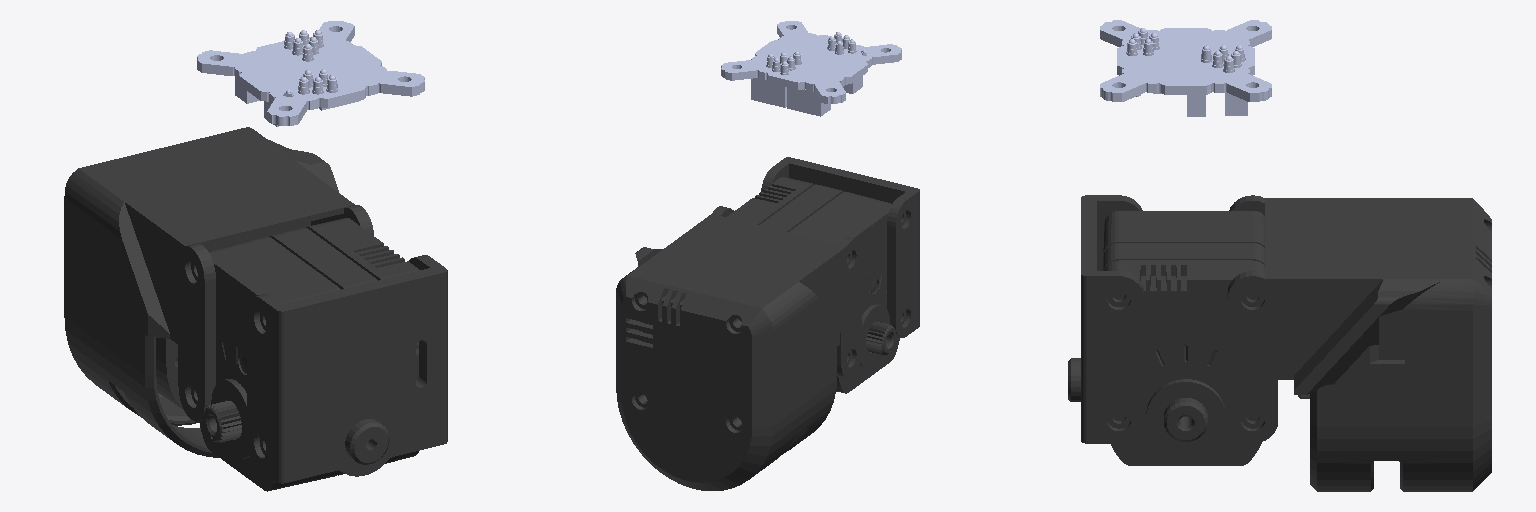
The robot description file, URDF, robot "screw_cross_module_cover_invert_50mm":
<?xml version='1.0' encoding='UTF-8'?>
<robot name="screw_cross_module_cover_invert_50mm">
  <link name="base_link">
    <inertial>
      <origin xyz="-0.000213433946328543 -0.000522257566248314 0.010512356078851" rpy="0.0 -0.0 0.0"/>
      <mass value="0.0119791718336502"/>
      <inertia ixx="1.31621870893497e-06" ixy="-5.13940617703683e-09" ixz="6.92655022774858e-09" iyy="1.42670892278346e-06" iyz="5.85355266632325e-09" izz="1.57468742862286e-06"/>
    </inertial>
    <visual>
      <geometry>
        <mesh filename="package://screw_cross_module_cover_invert_50mm/meshes/base_link.dae"/>
      </geometry>
      <material name="__unnamed_material_1"/>
      <origin xyz="0.0 0.0 0.0" rpy="0.0 -0.0 0.0"/>
    </visual>
    <collision>
      <geometry>
        <mesh filename="package://screw_cross_module_cover_invert_50mm/meshes/base_link.dae"/>
      </geometry>
      <origin xyz="0.0 0.0 0.0" rpy="0.0 -0.0 0.0"/>
    </collision>
  </link>
  <link name="link1">
    <inertial>
      <origin xyz="2.40548098907604e-05 0.0170200166175038 0.00743211422338727" rpy="0.0 -0.0 0.0"/>
      <mass value="0.0528420021206123"/>
      <inertia ixx="8.46927525862569e-06" ixy="3.77104103813554e-08" ixz="-2.40264131836263e-09" iyy="9.18514204610879e-06" iyz="3.33117292501083e-07" izz="7.42897064027825e-06"/>
    </inertial>
    <visual>
      <geometry>
        <mesh filename="package://screw_cross_module_cover_invert_50mm/meshes/link1.dae"/>
      </geometry>
      <material name="__unnamed_material_2"/>
      <origin xyz="0.0 0.0 0.0" rpy="0.0 -0.0 0.0"/>
    </visual>
    <collision>
      <geometry>
        <mesh filename="package://screw_cross_module_cover_invert_50mm/meshes/link1.dae"/>
      </geometry>
      <origin xyz="0.0 0.0 0.0" rpy="0.0 -0.0 0.0"/>
    </collision>
  </link>
  <link name="link2">
    <inertial>
      <origin xyz="-0.000799904651096249 0.000126545018078978 0.0439031855091127" rpy="0.0 -0.0 0.0"/>
      <mass value="0.0184890044461961"/>
      <inertia ixx="3.86018266499349e-06" ixy="-2.57346007074634e-09" ixz="-1.33830705751634e-08" iyy="3.71216828080987e-06" iyz="1.02631852497554e-09" izz="3.85438258007771e-06"/>
    </inertial>
    <visual>
      <geometry>
        <mesh filename="package://screw_cross_module_cover_invert_50mm/meshes/link2.dae"/>
      </geometry>
      <material name="__unnamed_material_3"/>
      <origin xyz="0.0 0.0 0.0" rpy="0.0 -0.0 0.0"/>
    </visual>
    <collision>
      <geometry>
        <mesh filename="package://screw_cross_module_cover_invert_50mm/meshes/link2.dae"/>
      </geometry>
      <origin xyz="0.0 0.0 0.0" rpy="0.0 -0.0 0.0"/>
    </collision>
  </link>
  <link name="dummy_link">
    <inertial>
      <origin xyz="-0.00146131369472048 0.000201870283507455 -0.00283550060362608" rpy="0.0 -0.0 0.0"/>
      <mass value="0.00131295075943631"/>
      <inertia ixx="5.41755504446202e-08" ixy="1.27650591705179e-09" ixz="-4.82976525885559e-09" iyy="5.88144881419791e-08" iyz="3.56234285318554e-10" izz="1.05520720481508e-07"/>
    </inertial>
    <visual>
      <geometry>
        <mesh filename="package://screw_cross_module_cover_invert_50mm/meshes/dummy_link.dae"/>
      </geometry>
      <material name="__unnamed_material_4"/>
      <origin xyz="0.0 0.0 0.0" rpy="0.0 -0.0 0.0"/>
    </visual>
    <collision>
      <geometry>
        <mesh filename="package://screw_cross_module_cover_invert_50mm/meshes/dummy_link.dae"/>
      </geometry>
      <origin xyz="0.0 0.0 0.0" rpy="0.0 -0.0 0.0"/>
    </collision>
  </link>
  <joint name="joint1" type="revolute">
    <limit effort="0.0" velocity="0.0" lower="-1.5" upper="1.5"/>
    <parent link="base_link"/>
    <child link="link1"/>
    <axis xyz=" 0. -1.  0."/>
    <origin xyz="0.0 0.0 0.0349999999999999" rpy="0.0 -0.0 0.0"/>
  </joint>
  <joint name="joint2" type="revolute">
    <limit effort="0.0" velocity="0.0" lower="-0.698" upper="1.57"/>
    <parent link="link1"/>
    <child link="link2"/>
    <axis xyz="1. 0. 0."/>
    <origin xyz="0.0 0.0 0.0" rpy="0.0 -0.0 0.0"/>
  </joint>
  <joint name="dummy_joint" type="fixed">
    <limit effort="0.0" velocity="0.0"/>
    <parent link="link2"/>
    <child link="dummy_link"/>
    <axis xyz="0. 0. 0."/>
    <origin xyz="0.0 0.0 0.0569999998698719" rpy="0.0 -0.0 -1.5707963267949003"/>
  </joint>
  <material name="__unnamed_material_1">
    <color rgba="0.75294118 0.75294118 0.75294118 1.        "/>
  </material>
  <material name="__unnamed_material_2">
    <color rgba="0.29803922 0.29803922 0.29803922 1.        "/>
  </material>
  <material name="__unnamed_material_3">
    <color rgba="0.75294118 0.75294118 0.75294118 1.        "/>
  </material>
  <material name="__unnamed_material_4">
    <color rgba="0.79215686 0.81960784 0.93333333 1.        "/>
  </material>
</robot>

--- Facts derived from the render (not from the file) ---
3 views of the same robot in one strip: view 1: azimuth 30°, elevation 25°; view 2: azimuth 150°, elevation 25°; view 3: azimuth 270°, elevation 25° (orthographic).
Robot: screw_cross_module_cover_invert_50mm — 4 links, 3 joints (2 revolute, 1 fixed); root link base_link; default pose: every joint at zero.
Links seen in each view (by area): view 1: link1, dummy_link; view 2: link1, dummy_link; view 3: link1, dummy_link.
Link boxes in pixels (x1,y1,x2,y2): link1: [64, 127, 447, 491]; dummy_link: [197, 21, 424, 126]; link1: [616, 157, 919, 490]; dummy_link: [721, 21, 901, 116]; link1: [1068, 195, 1491, 491]; dummy_link: [1100, 20, 1271, 116].
Size in the robot's own frame: 0.038 by 0.0665 by 0.0759 metres.
Meshes: 4 distinct files referenced, 2 mesh visuals loaded (2 Collada DAE); not drawn: 2 (reference not matched to a file when rendering).